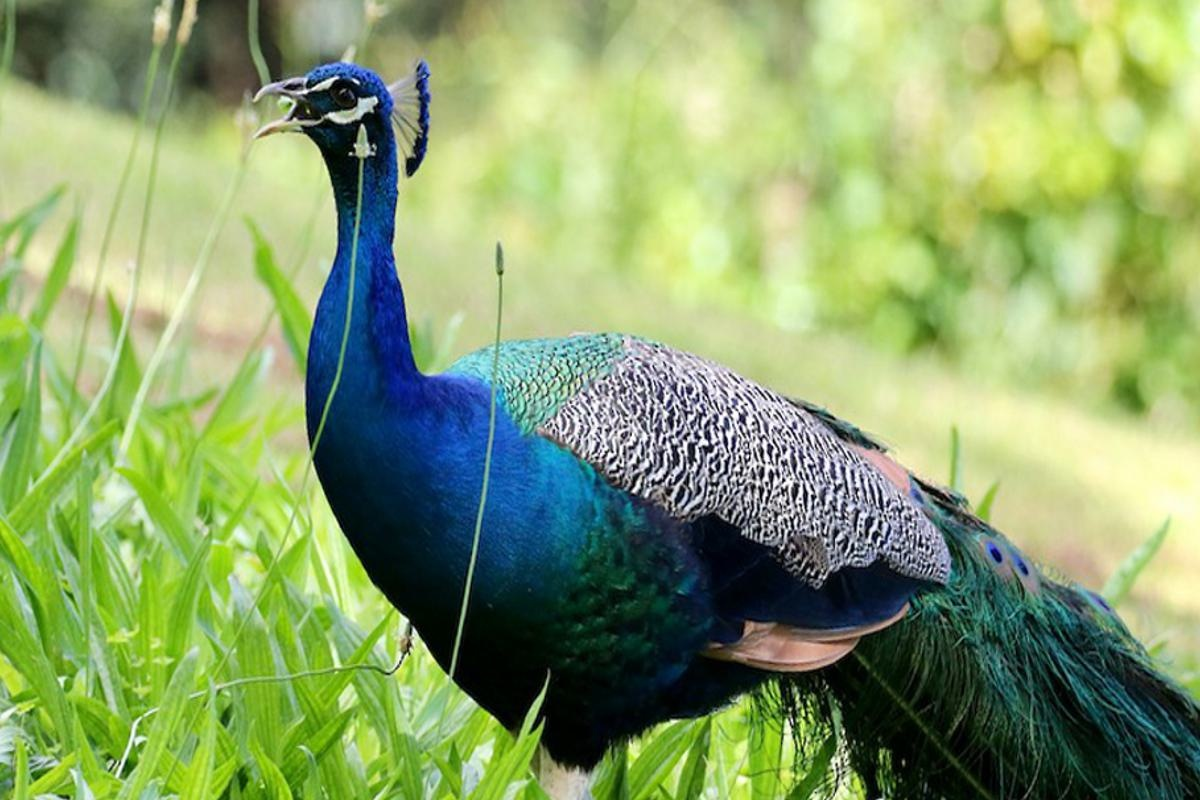peacock: (271, 68, 1154, 800)
